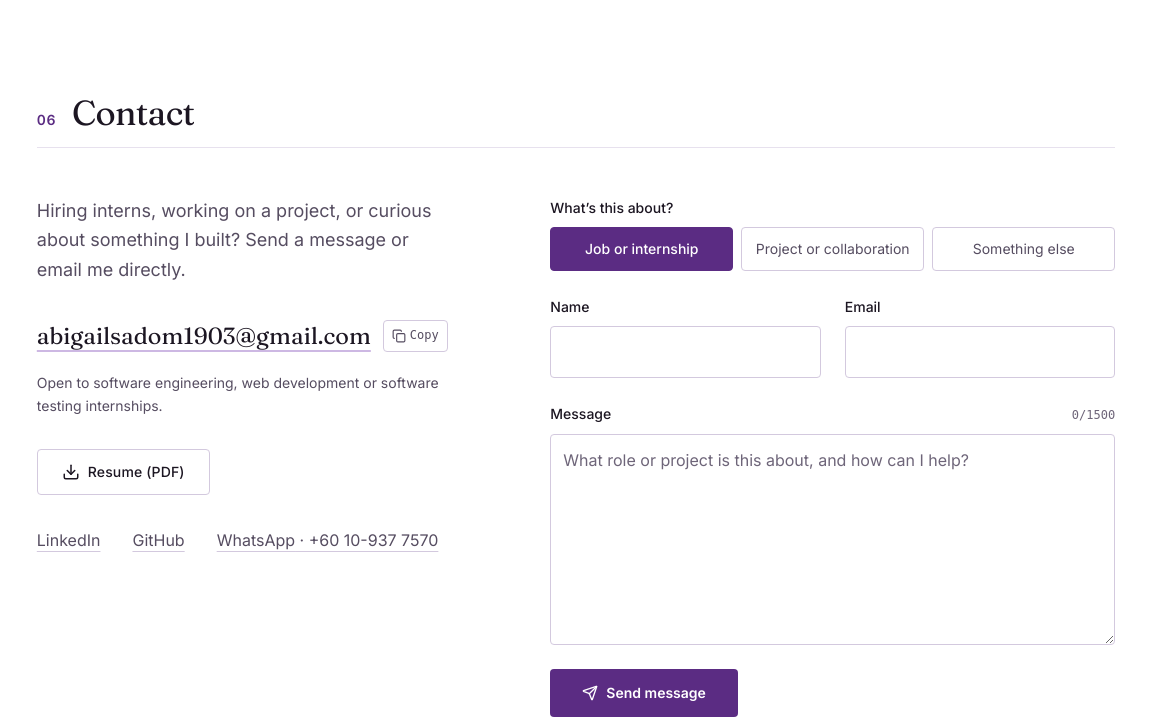
Contact › clears a field error once the visitor starts fixing it
Step 1. Click the button "Send message" → (644, 693), box [550,669,738,717]
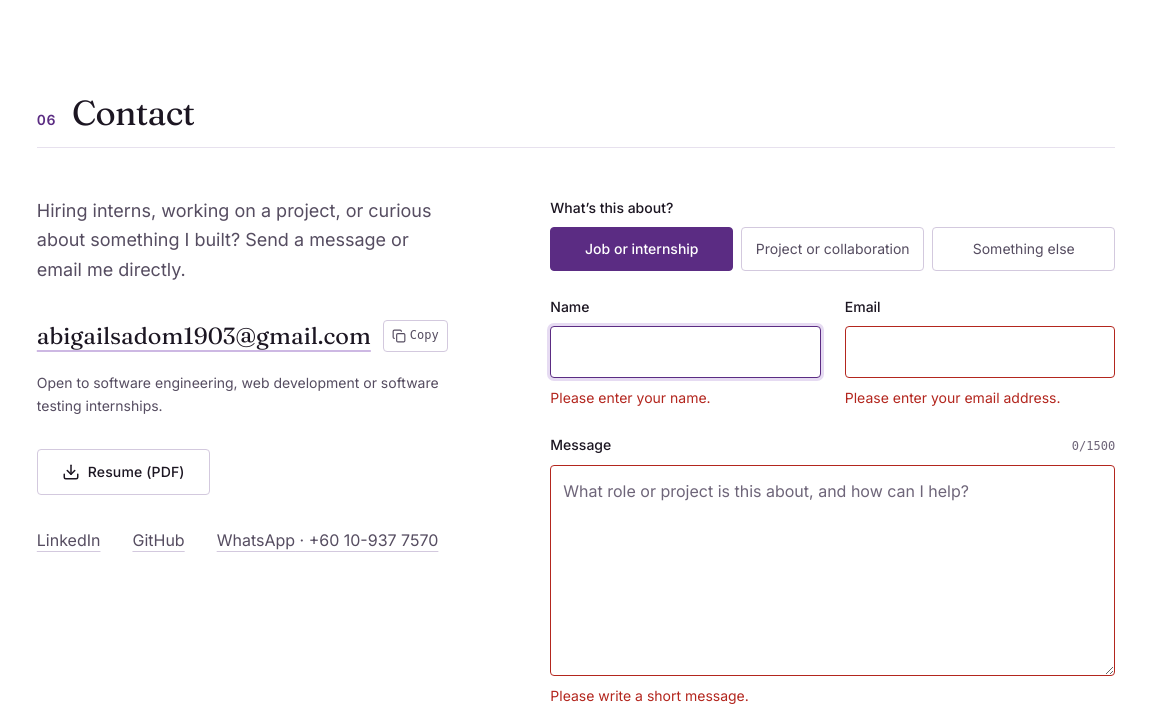
Step 2. Type "A" into the field labelled "Name" → (686, 352), box [550,326,821,378]
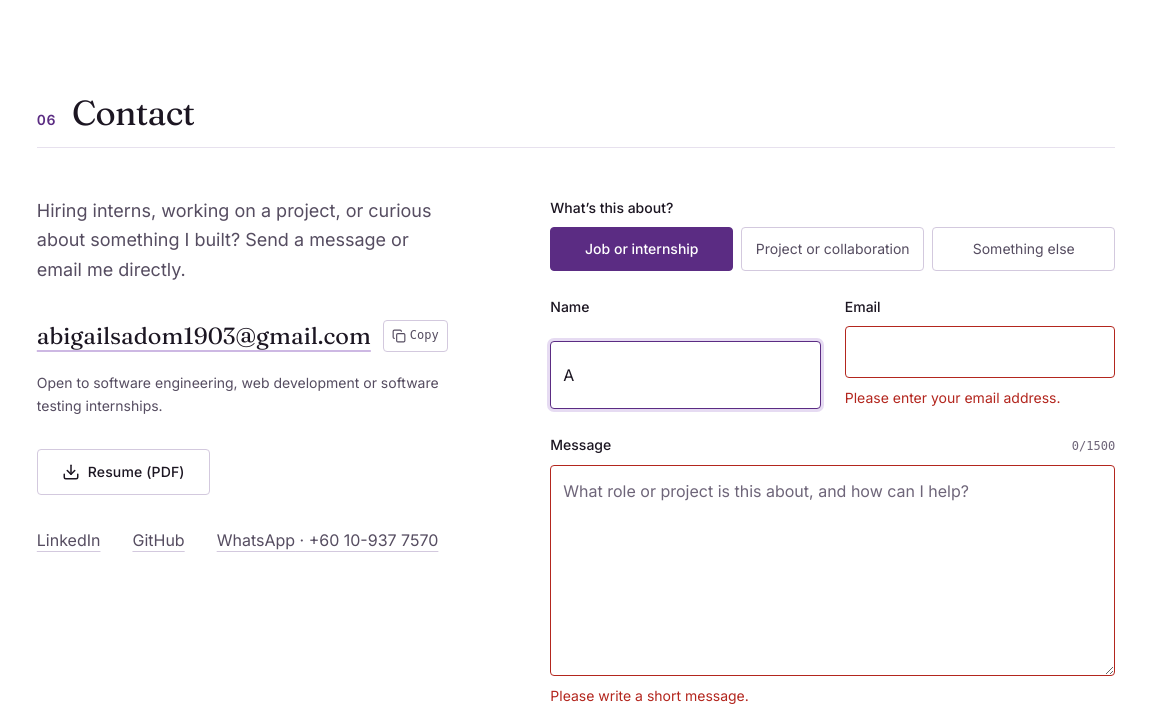
Check: the text "Please enter your name." is gone
